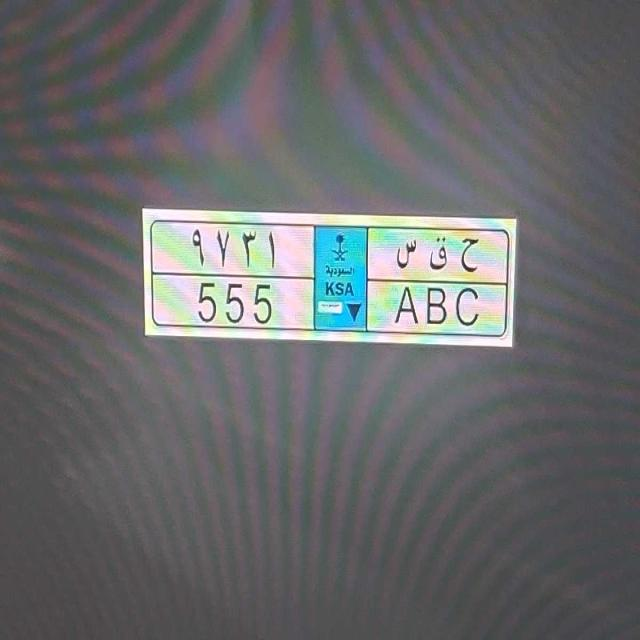license_plate: (150, 274, 508, 342)
